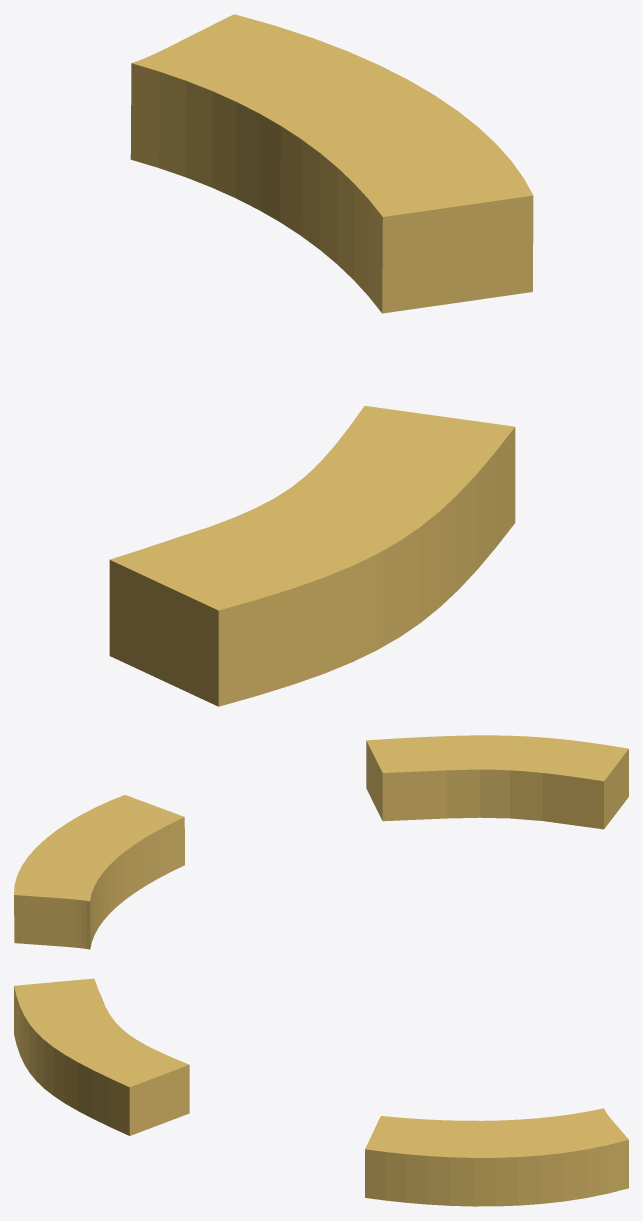
Rendered from new-platforms-fixed.fbx.
The picture shows the model from 3 angles, top to bottom: view 1: azimuth 30°, elevation 25°; view 2: azimuth 150°, elevation 25°; view 3: azimuth 270°, elevation 25°; orthographic projection. The views are drawn at different scales.
Parts seen in each view (by area): view 1: horizontal platform; view 2: horizontal platform; view 3: horizontal platform.
Boxes of the visible parts, bbox=[...] form: horizontal platform: bbox=[109, 14, 533, 706]; horizontal platform: bbox=[14, 735, 628, 949]; horizontal platform: bbox=[14, 978, 628, 1206].
Bounding box in the file's own units: 639 × 85.4 × 930.
